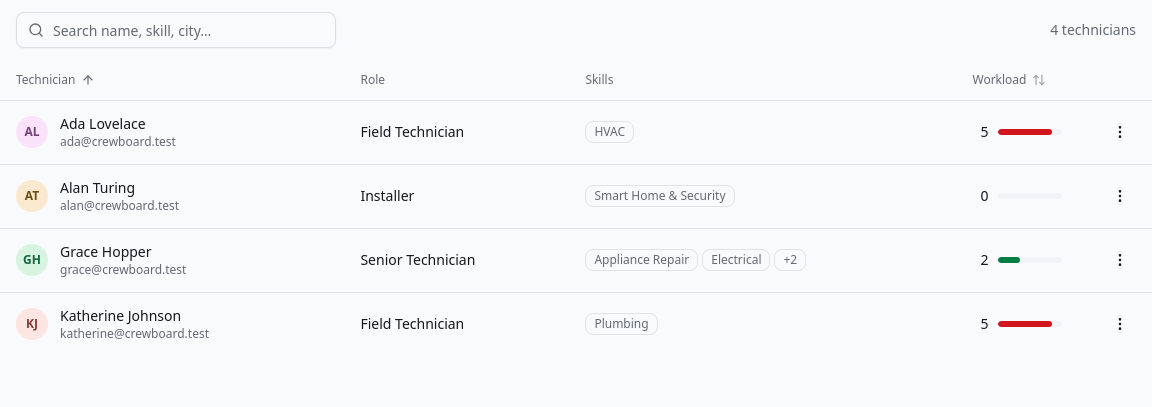
Test: TechniciansTable › offers the same actions in the compact row menu
Click the button named "More actions for Grace Hopper" at {"x": 1120, "y": 260}, box x1=1104 y1=244 x2=1136 y2=276
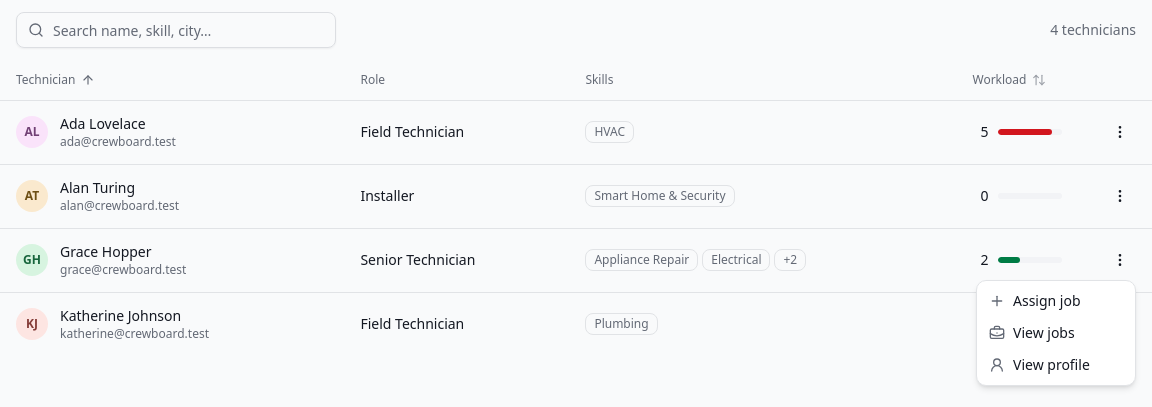
Click the menu item named "Assign job to Grace Hopper" at {"x": 1042, "y": 305}, box x1=988 y1=291 x2=1097 y2=320
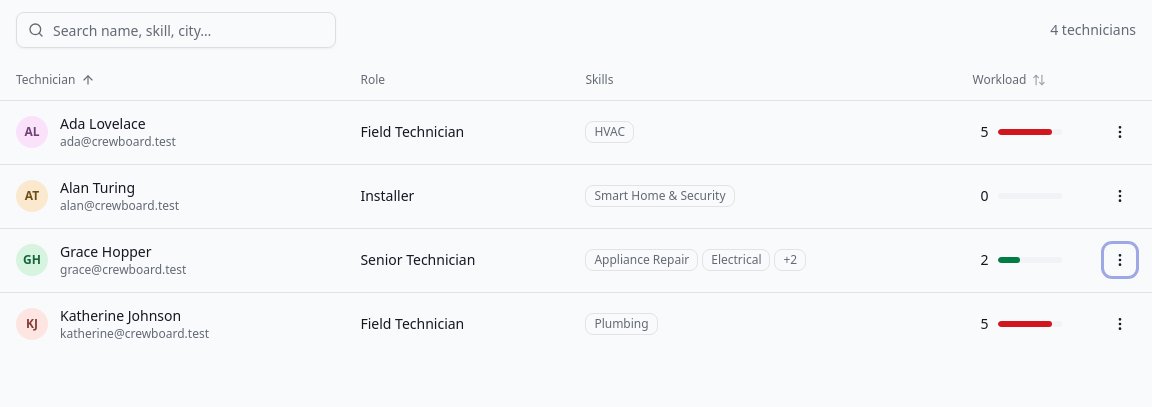
Expected: the menu is gone
